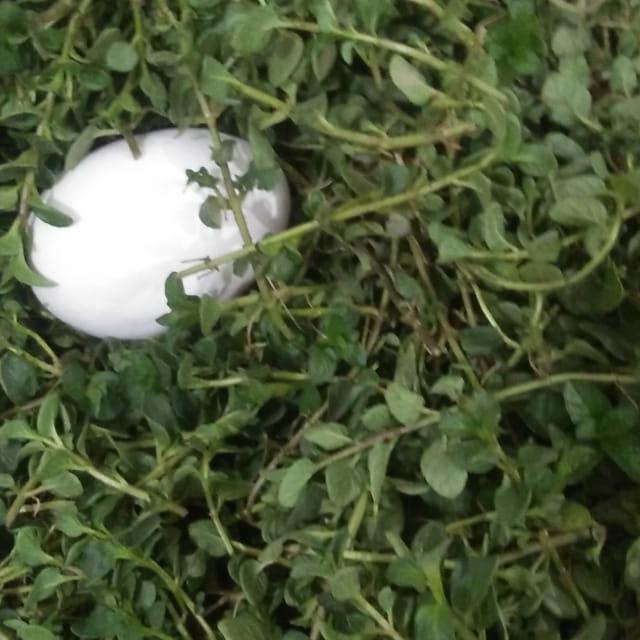egg: (20, 122, 293, 343)
